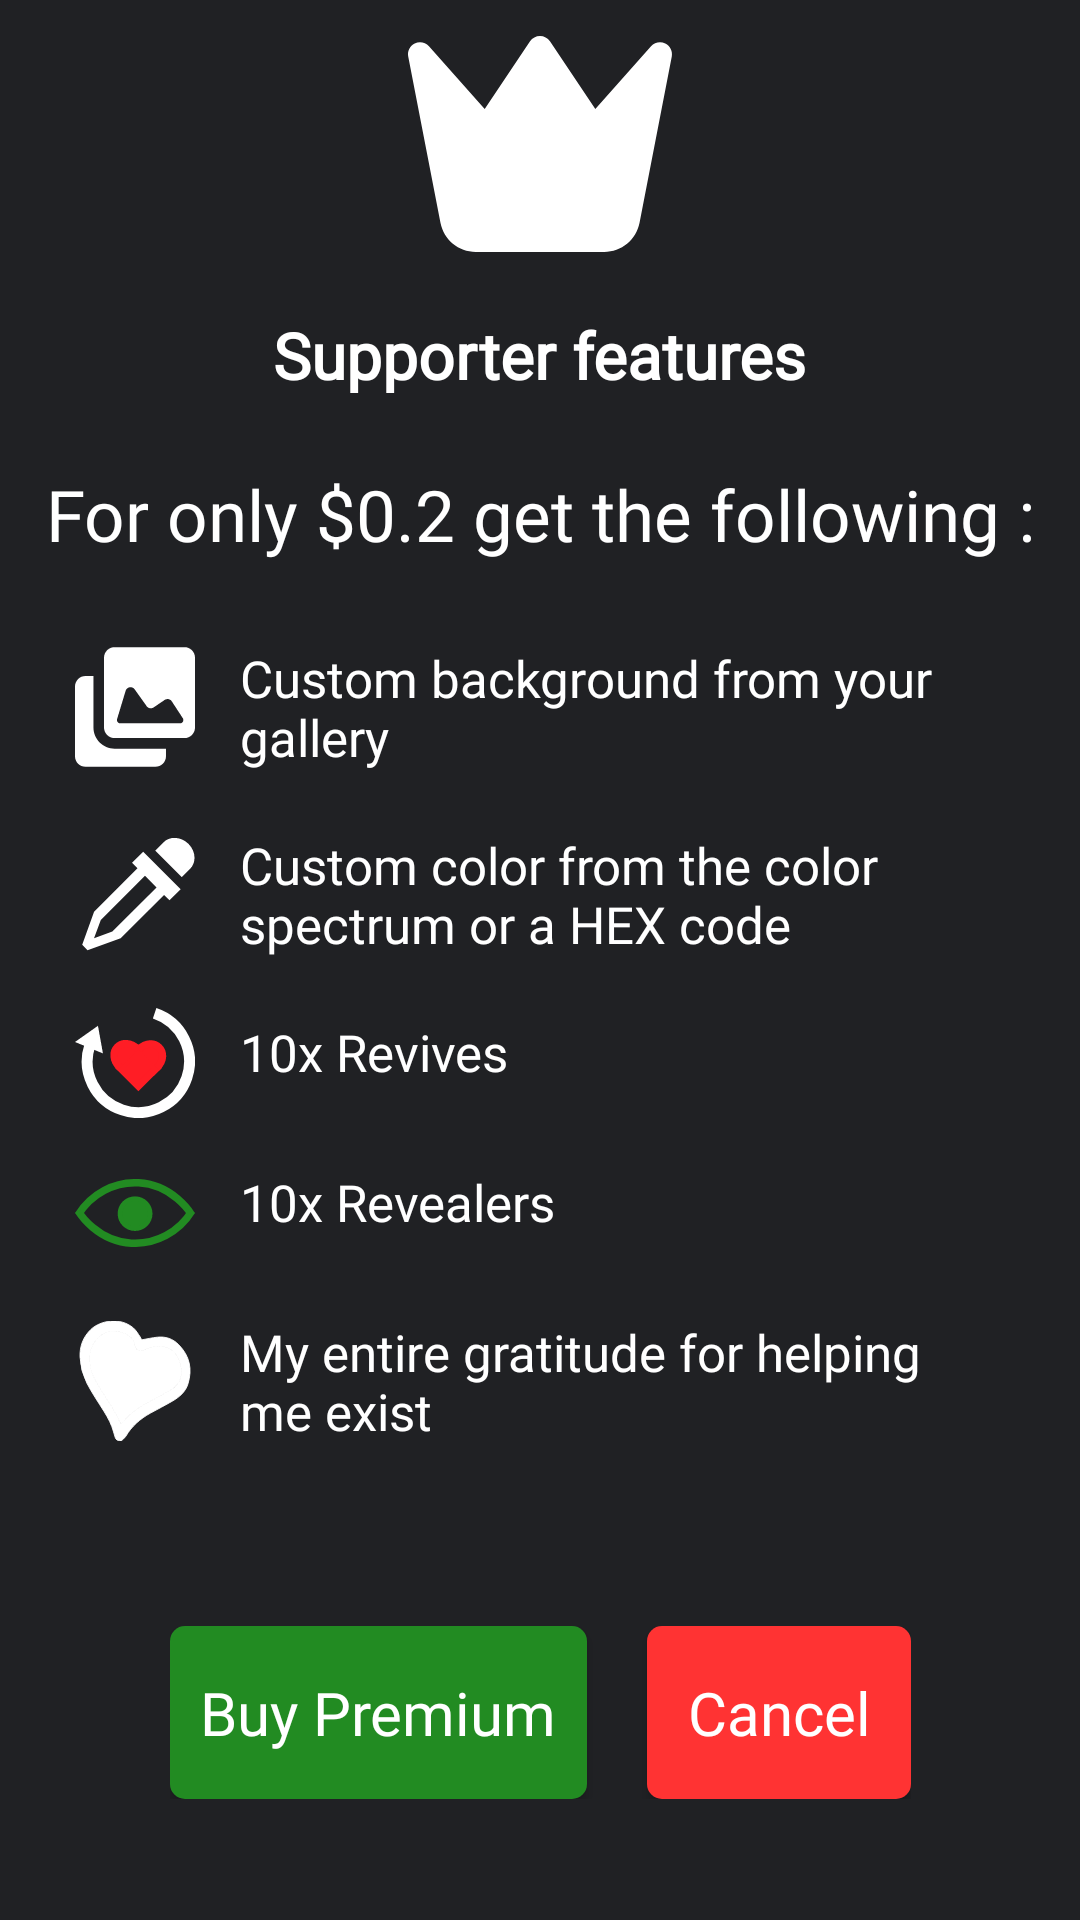

Screen size 1080×1920. Icon name, then its box in pixels as (x1,y1,x2,y2):
crown: (408,36,672,252)
heart: (79,1321,191,1441)
picker: (82,838,195,951)
